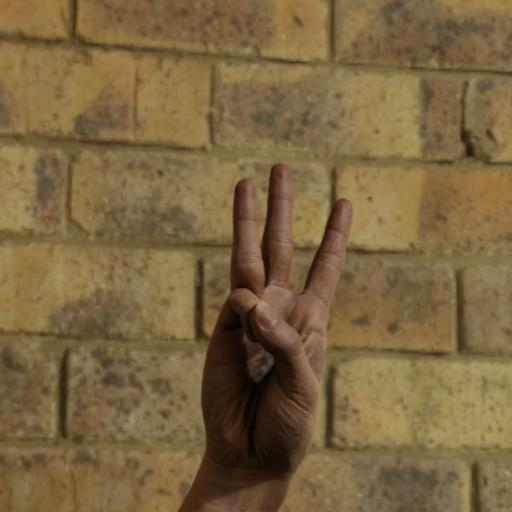W: (181, 147, 371, 512)
